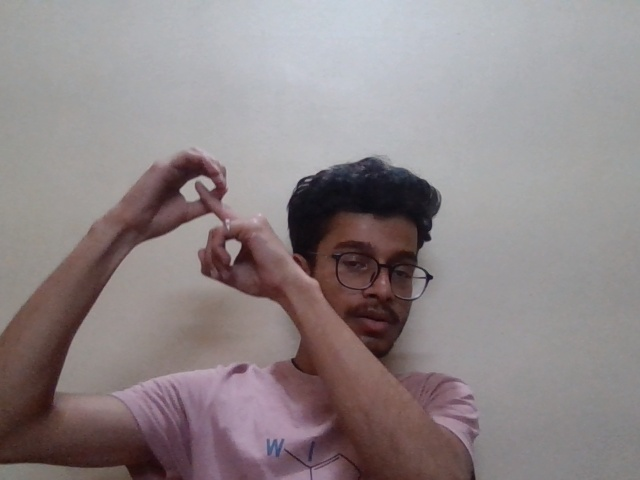Q: (119, 141, 310, 335)
